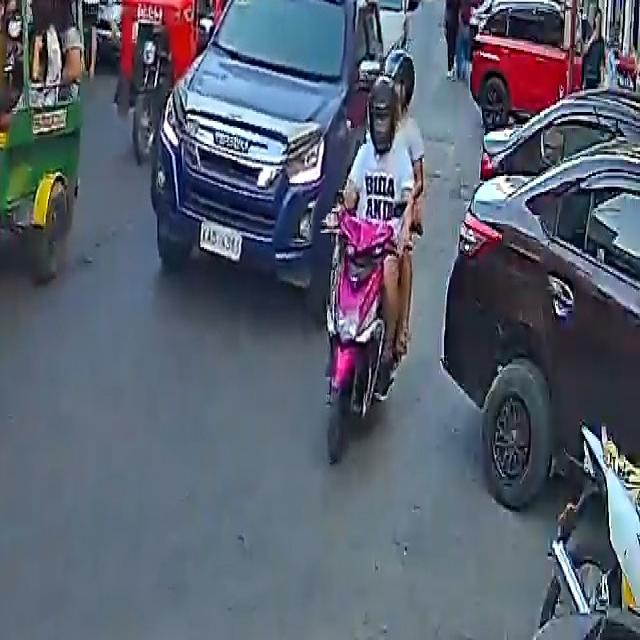car: (445, 86, 640, 527), (146, 0, 416, 286), (468, 0, 596, 126), (343, 0, 417, 20)
